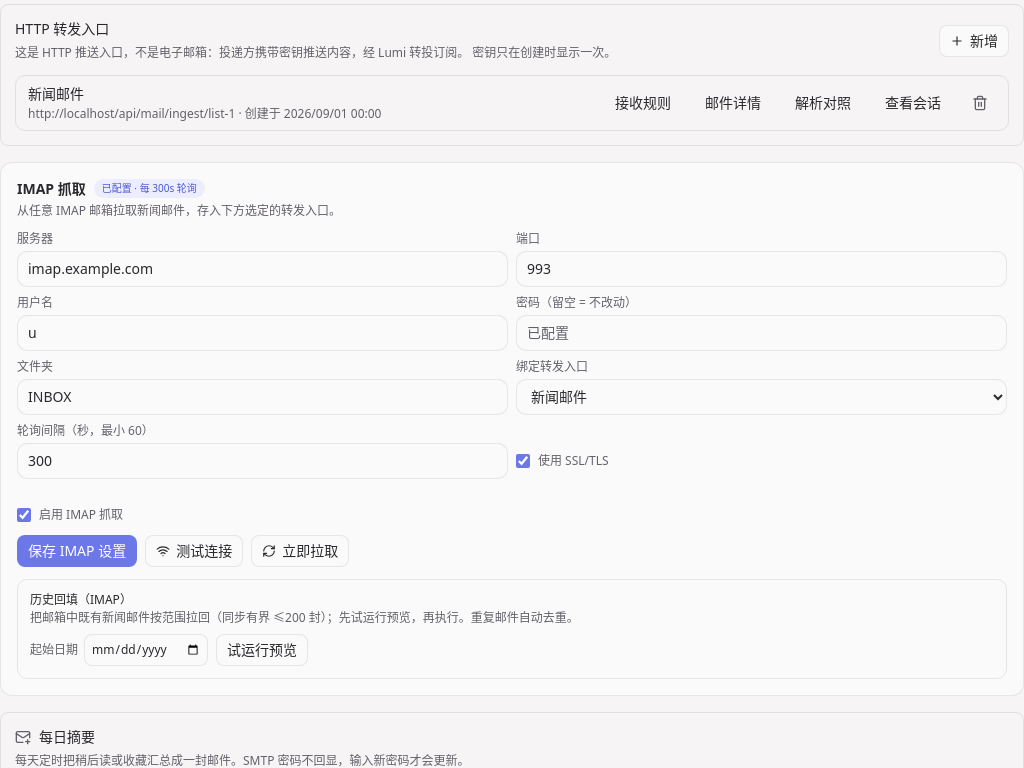
it: F104 解析对照对话框 › F104: 邮件不存在（404）诚实透出
Expected: the text "新闻邮件" is shown, [28, 84, 84, 102]
Click the button "解析对照": [823, 102] box [784, 86, 862, 118]
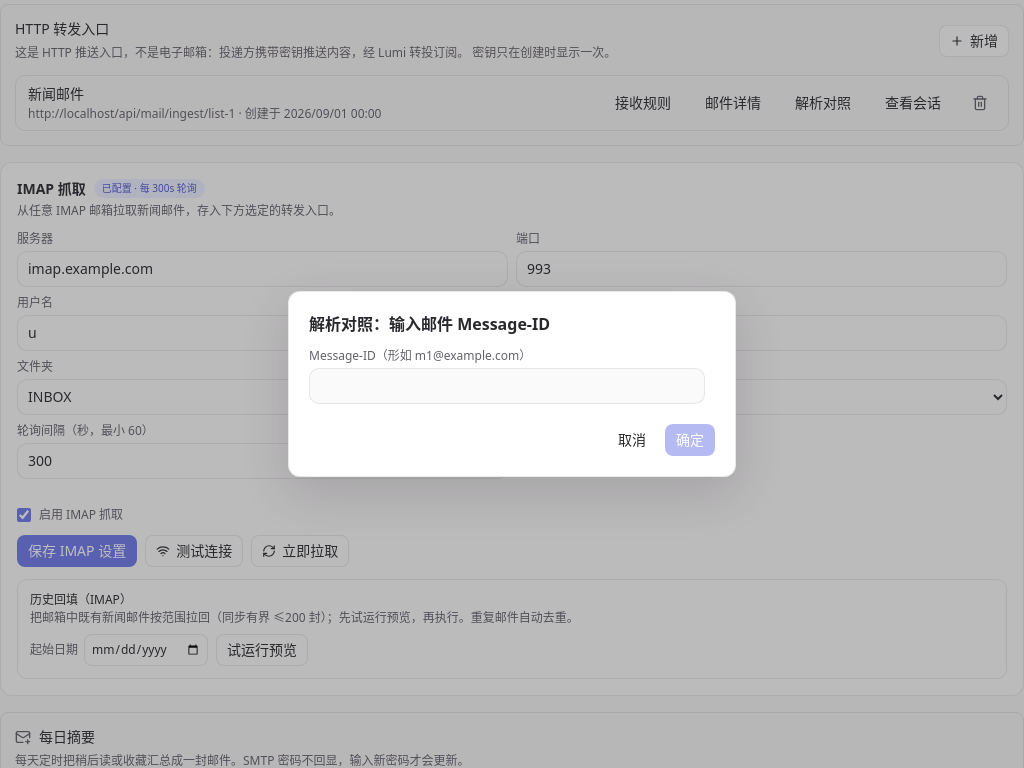
In the field named "邮件 Message-ID": [507, 386] box [309, 368, 705, 404], type "gone@x.com"
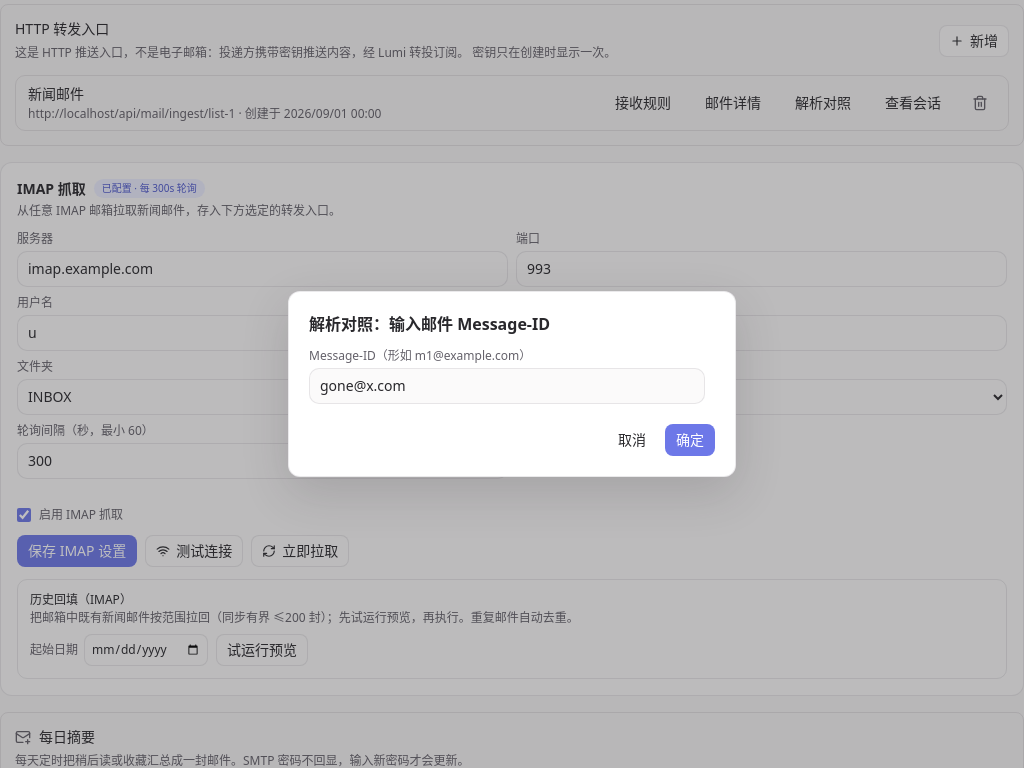
Click the button "确定": [690, 440] box [665, 424, 715, 456]
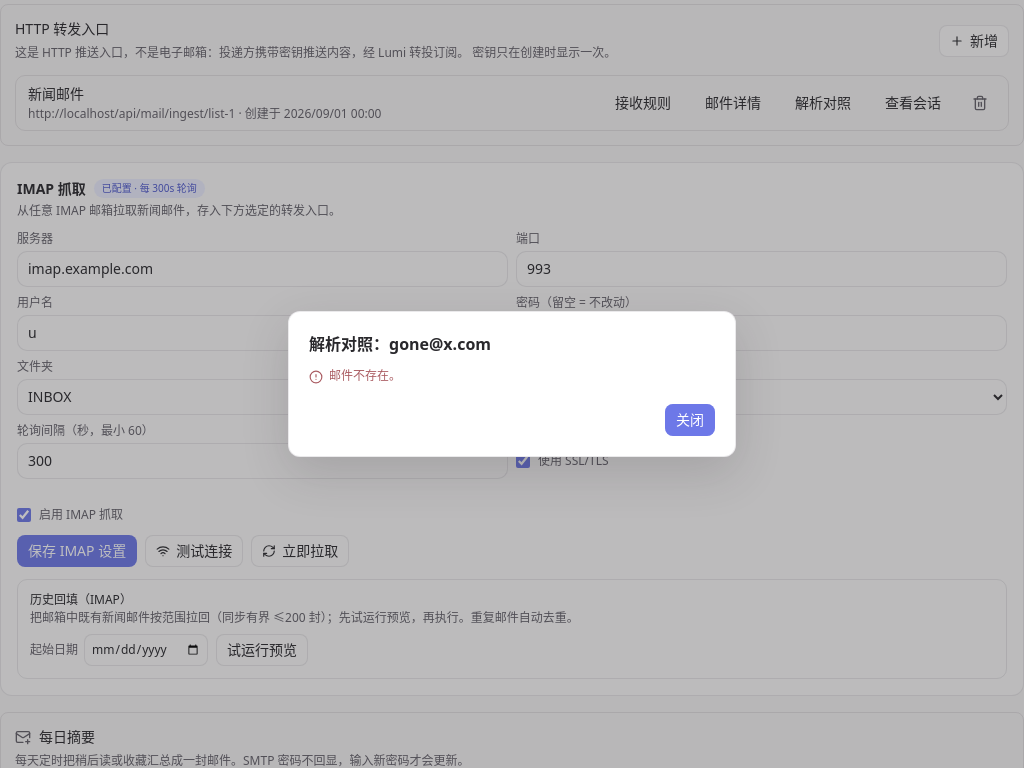
Expected: the message reads "邮件不存在。", [329, 368, 401, 384]
